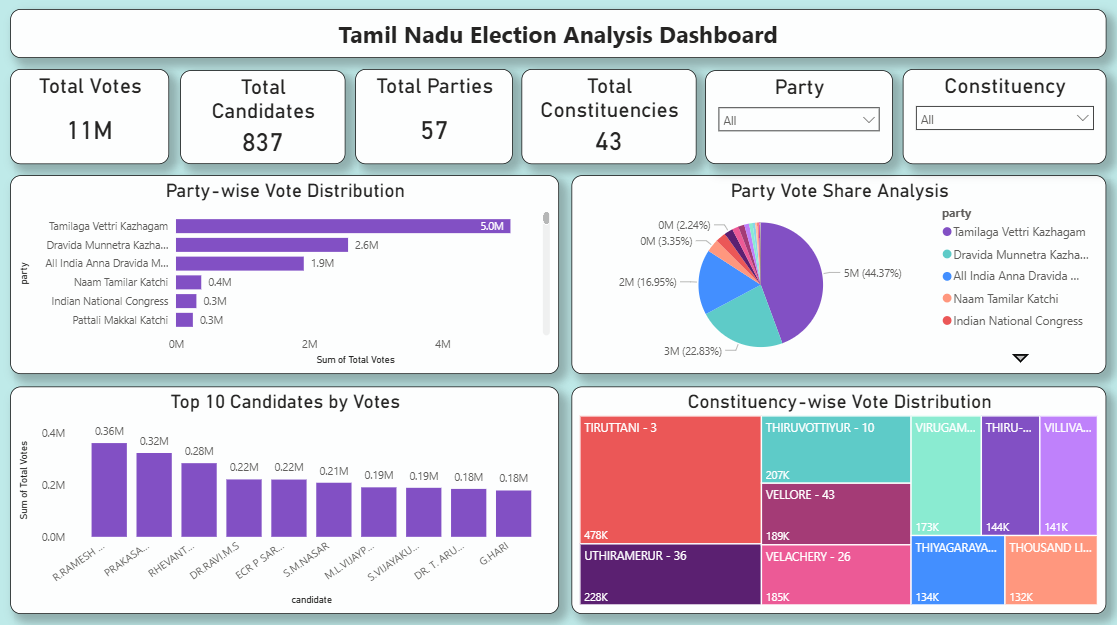

What the dashboard file says about the page in this screenshot:
{"tool":"powerbi","page":{"name":"Page 1","canvas":[1280,720],"ordinal":0},"visuals":[{"type":"textbox","box":[12.9,11.4,1252.9,55.7],"z":0},{"type":"card","title":"Total Votes","fields":{"Values":["Sum(dashboard_data.Total Votes)"]},"box":[12.9,80,181.4,108.6],"z":1000},{"type":"card","title":"Total Candidates","fields":{"Values":["Count(dashboard_data.candidate)"]},"box":[207.1,81.4,188.6,107.1],"z":2000},{"type":"card","title":"Total Parties","fields":{"Values":["Count(dashboard_data.party)"]},"box":[407.1,80,180,108.6],"z":3000},{"type":"card","title":"Total Constituencies","fields":{"Values":["Count(dashboard_data.constituency)"]},"box":[597.1,80,200,108.6],"z":4000},{"type":"clusteredBarChart","title":"Party-wise Vote Distribution","fields":{"Category":["dashboard_data.party"],"Y":["Sum(dashboard_data.Total Votes)"]},"box":[12.9,201.4,627.1,227.1],"z":5000},{"type":"clusteredColumnChart","title":"Top 10 Candidates by Votes","fields":{"Category":["dashboard_data.candidate"],"Y":["Sum(dashboard_data.Total Votes)"]},"box":[12.9,442.9,627.1,260],"z":6000},{"type":"pieChart","title":"Party Vote Share Analysis","fields":{"Category":["dashboard_data.party"],"Y":["Sum(dashboard_data.Total Votes)"]},"box":[654.3,201.4,611.4,227.1],"z":7000},{"type":"treemap","title":"Constituency-wise Vote Distribution","fields":{"Values":["Sum(dashboard_data.Total Votes)"],"Details":["dashboard_data.constituency"]},"box":[654.3,442.9,611.4,260],"z":8000},{"type":"slicer","title":"Party","fields":{"Values":["dashboard_data.party"]},"box":[807.1,81.4,214.3,107.1],"z":9000},{"type":"slicer","title":"Constituency","fields":{"Values":["dashboard_data.constituency"]},"box":[1032.9,80,232.9,108.6],"z":10000}]}

Visuals, with their boxes in screenshot pixels (x1, y1, x2, y2), scaled from the page's 1280x720 canvas onto the 1117x625 screenshot:
textbox: 11 10 1105 58
"Total Votes" card: 11 69 170 164
"Total Candidates" card: 181 71 345 164
"Total Parties" card: 355 69 512 164
"Total Constituencies" card: 521 69 696 164
"Party-wise Vote Distribution" clusteredBarChart: 11 175 558 372
"Top 10 Candidates by Votes" clusteredColumnChart: 11 384 558 610
"Party Vote Share Analysis" pieChart: 571 175 1105 372
"Constituency-wise Vote Distribution" treemap: 571 384 1105 610
"Party" slicer: 704 71 891 164
"Constituency" slicer: 901 69 1105 164
